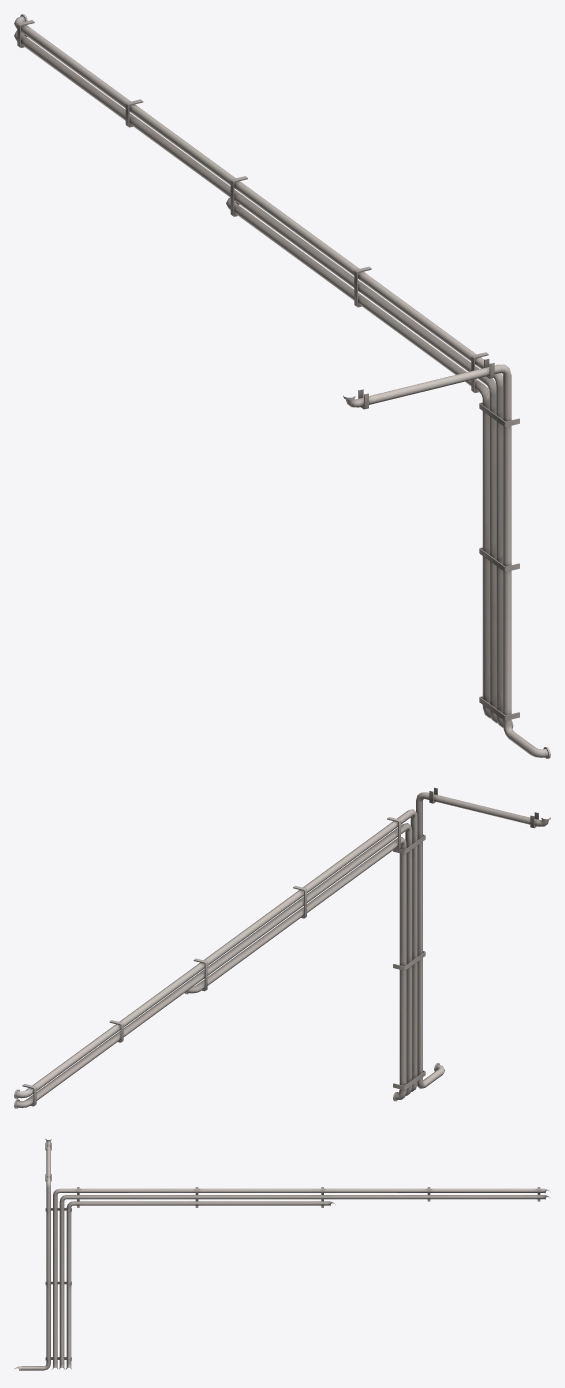
3 renders of one model, top to bottom at view 1: azimuth 30°, elevation 25°; view 2: azimuth 150°, elevation 25°; view 3: azimuth 270°, elevation 25°, orthographic. The views are drawn at different scales.
Visible parts, largest first — view 1: body0_model0_lod0_mesh0; view 2: body0_model0_lod0_mesh0; view 3: body0_model0_lod0_mesh0.
Part boxes in pixels (left/top/right/bottom): body0_model0_lod0_mesh0: left=14, top=14, right=550, bottom=758; body0_model0_lod0_mesh0: left=14, top=787, right=550, bottom=1108; body0_model0_lod0_mesh0: left=14, top=1139, right=550, bottom=1370.
Size of the model in its own units: 87.99 by 185 by 467.
1 material, 1 textured.
